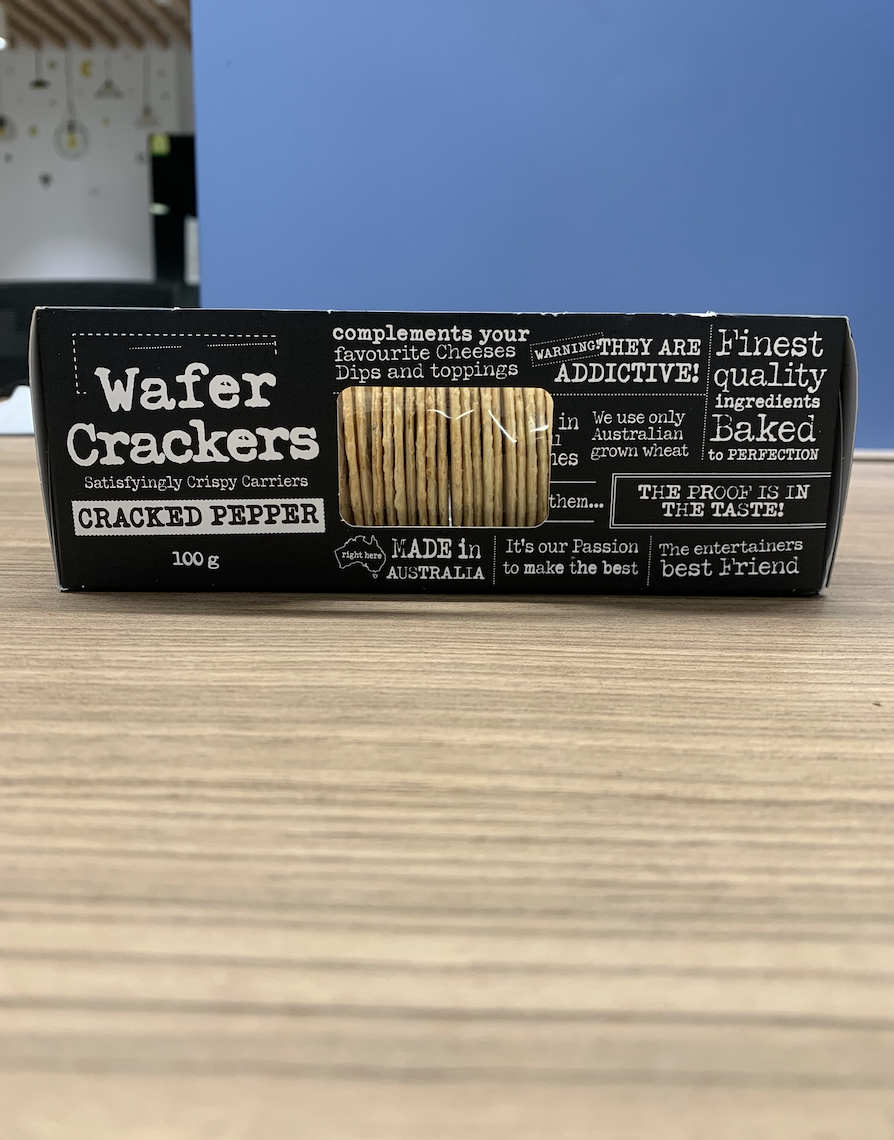crackers_100g-199g: (61, 328, 829, 580)
